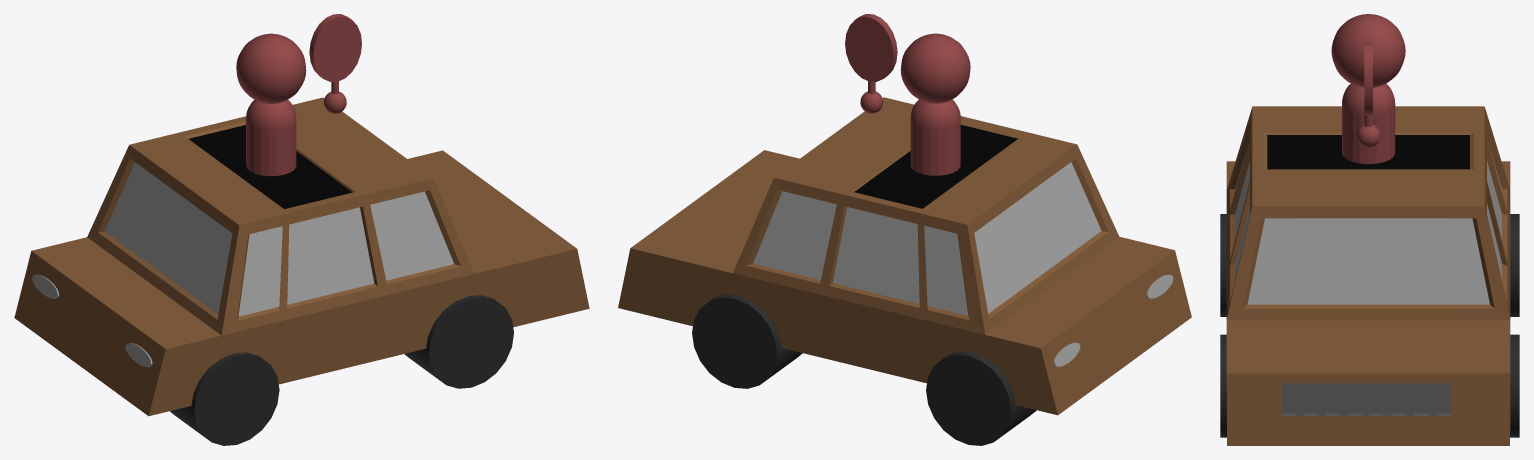
Rendered from GJCarP2Coloured.fbx.
3 renders of one model, left to right at view 1: azimuth 30°, elevation 25°; view 2: azimuth 150°, elevation 25°; view 3: azimuth 270°, elevation 25°, orthographic. The views are drawn at different scales.
Parts seen in each view (by area): view 1: pCube1, pCylinder2, pCylinder3, pSphere2, pSphere1, pCylinder8; view 2: pCube1, pCylinder1, pCylinder4, pSphere2, pSphere1, pCylinder8; view 3: pCube1, pSphere2, pSphere1, pCylinder1, pCylinder4, pCylinder2, pCylinder3, pCylinder8, pSphere3.
Part boxes in pixels (bbox=[...]): pCube1: bbox=[14, 97, 589, 416]; pCylinder2: bbox=[404, 295, 513, 388]; pCylinder3: bbox=[170, 352, 279, 445]; pSphere2: bbox=[236, 33, 306, 103]; pSphere1: bbox=[246, 99, 296, 176]; pCylinder8: bbox=[309, 14, 361, 81]; pCube1: bbox=[618, 97, 1191, 415]; pCylinder1: bbox=[692, 294, 802, 388]; pCylinder4: bbox=[926, 351, 1036, 445]; pSphere2: bbox=[900, 33, 970, 103]; pSphere1: bbox=[910, 99, 960, 175]; pCylinder8: bbox=[845, 14, 897, 81]; pCube1: bbox=[1226, 106, 1510, 445]; pSphere2: bbox=[1331, 14, 1405, 87]; pSphere1: bbox=[1342, 83, 1395, 164]; pCylinder1: bbox=[1510, 334, 1519, 437]; pCylinder4: bbox=[1510, 214, 1519, 316]; pCylinder2: bbox=[1220, 334, 1226, 437]; pCylinder3: bbox=[1220, 214, 1226, 316]; pCylinder8: bbox=[1364, 42, 1372, 114]; pSphere3: bbox=[1356, 124, 1380, 147].
Size of the model in its own units: 3.73 by 2.72 by 2.08.
